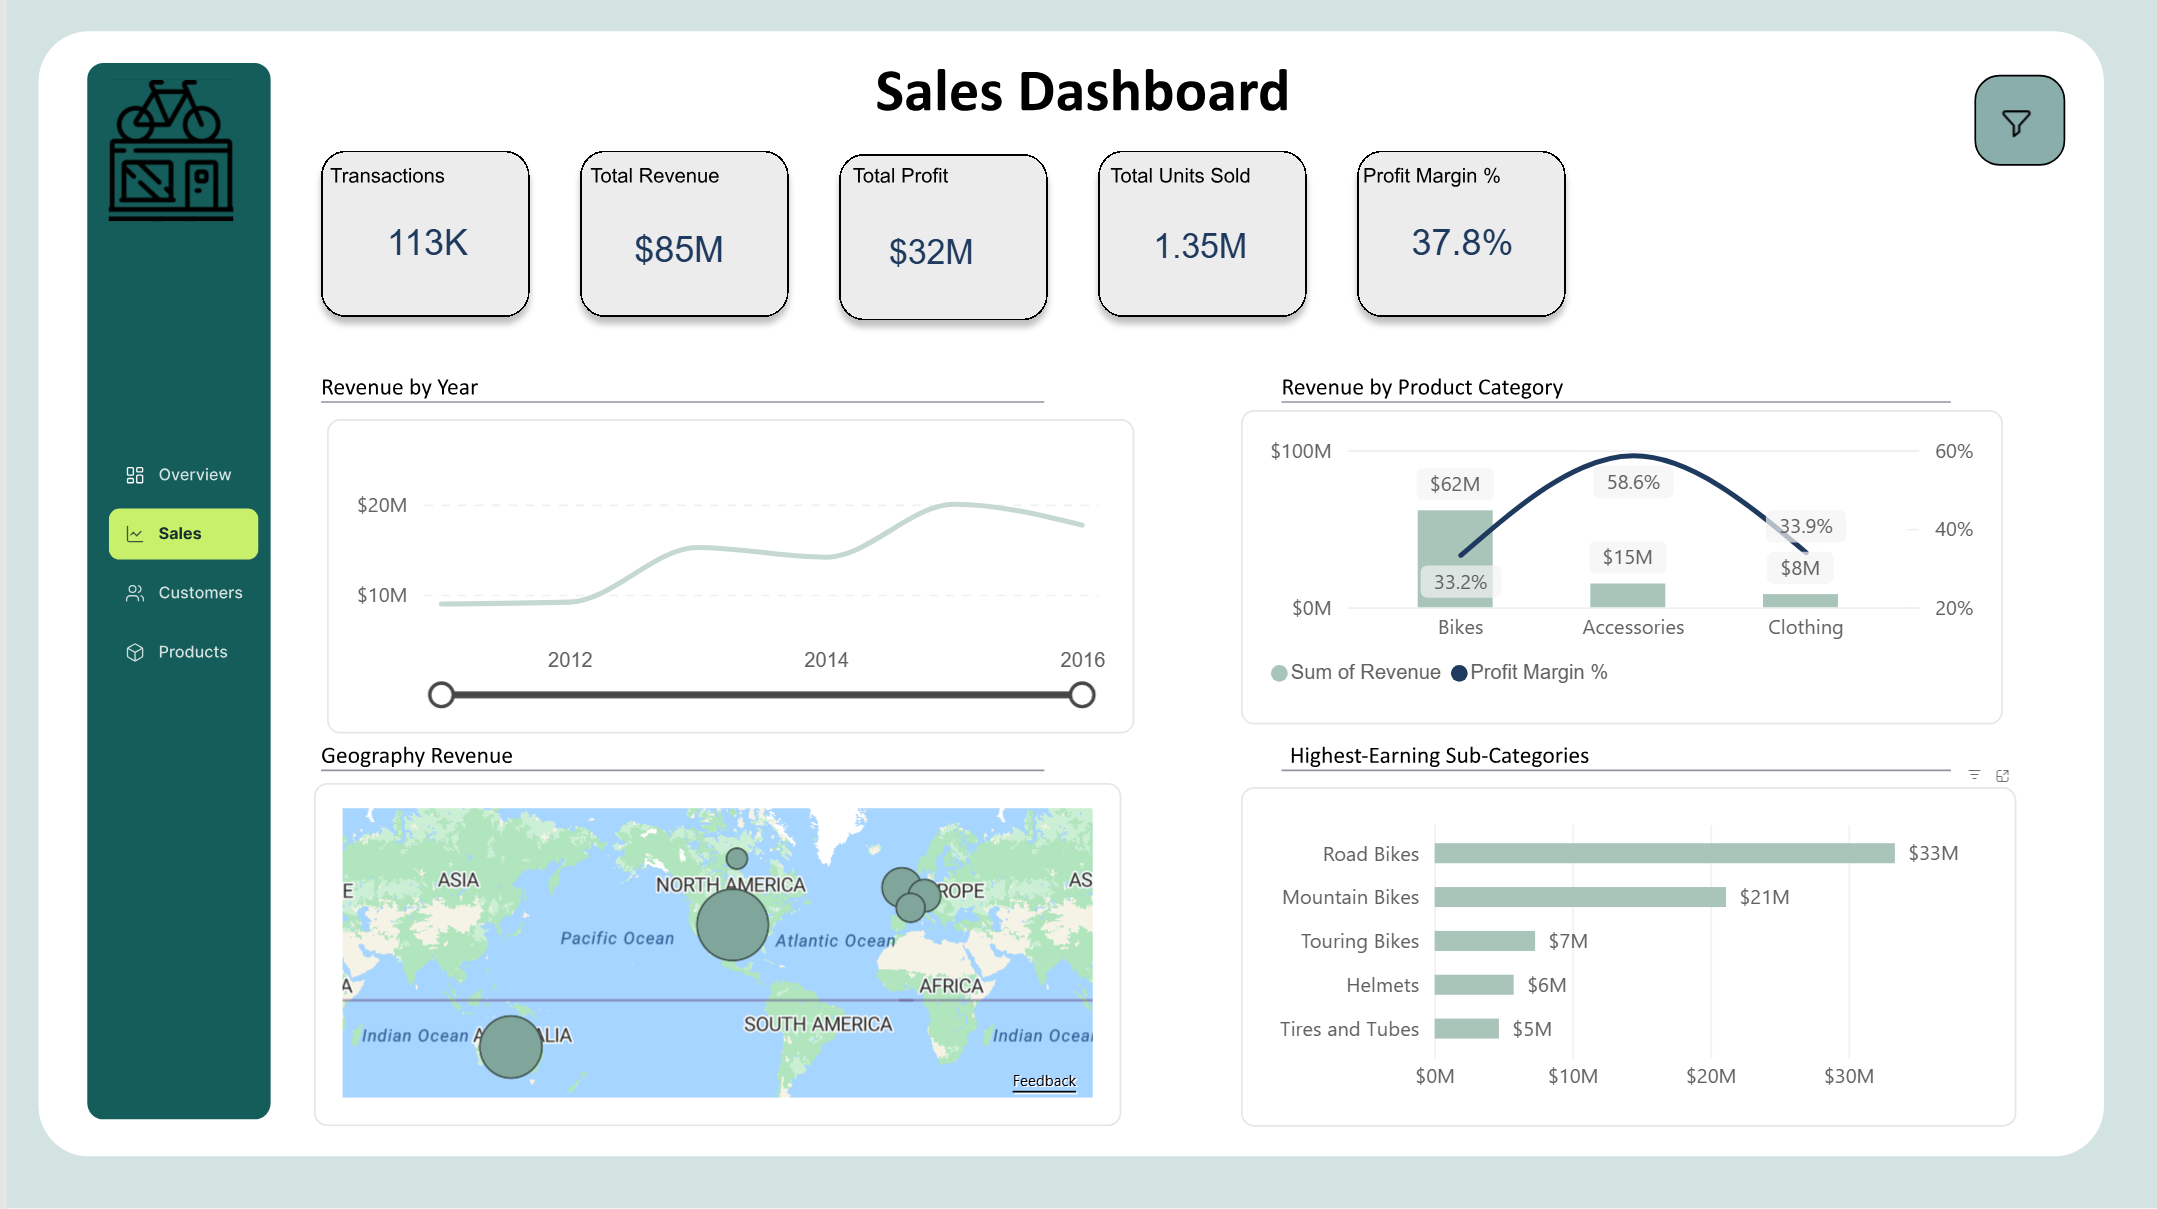

What the dashboard file says about the page in this screenshot:
{"tool":"powerbi","page":{"name":"Sales Overview","canvas":[1280,720],"ordinal":1},"visuals":[{"type":"card","fields":{"Values":["_Measures.Total Sales Revenue"]},"box":[341.8,109.1,115.5,83.6],"z":0},{"type":"card","fields":{"Values":["_Measures.Total Profit"]},"box":[505.5,123.6,88.2,58.2],"z":1000},{"type":"lineChart","fields":{"Category":["Date.Date Hierarchy.Year","Date.Date Hierarchy.Quarter","Date.Date Hierarchy.MonthName","Date.Date Hierarchy.Day"],"Y":["_Measures.Total Sales Revenue"]},"box":[190,250,480,187.3],"z":3000},{"type":"card","fields":{"Values":["_Measures.Total Orders Number"]},"box":[206.4,117.3,87.3,59.1],"z":4000},{"type":"actionButton","title":"Filter button","box":[1162,49,66.4,50.9],"z":5000},{"type":"shape","box":[66.9,343.8,75.6,16.9],"z":7000},{"type":"shape","box":[66.9,376.2,75.6,20.6],"z":8000},{"type":"card","fields":{"Values":["_Measures.Total Quantity Sold"]},"box":[663.3,123.3,91.5,52.3],"z":9000},{"type":"azureMap","fields":{"Category":["Sales.Country"],"Size":["_Measures.Total Sales Revenue"]},"box":[182.7,466.4,480,203.6],"z":10000},{"type":"lineClusteredColumnComboChart","fields":{"Category":["Sales.Product_Category"],"Y":["Sum(Sales.Revenue)"],"Y2":["_Measures.Profit Margin %"]},"box":[733.6,244.1,452.7,187.3],"z":11000},{"type":"shape","box":[66.9,272.5,75.6,20.6],"z":12000},{"type":"clusteredBarChart","fields":{"Category":["Sales.Sub_Category"],"Y":["Sum(Sales.Revenue)"]},"box":[733.6,468.6,460.7,202.1],"z":13000},{"type":"card","title":"Card_avg_customer_age","fields":{"Values":["_Measures.Profit Margin %"]},"box":[813.3,105,104,83],"z":14000},{"type":"group","id":"g1","title":"Filter goup","box":[0,0,1280,720],"z":14500}]}

Visuals, with their boxes in screenshot pixels (x1, y1, x2, y2), scaled from the page's 1280x720 canvas onto the 2157x1209 screenshot:
card - _Measures.Total Sales Revenue: [576, 183, 771, 324]
card - _Measures.Total Profit: [852, 208, 1000, 305]
lineChart - Date.Date Hierarchy.Year x Date.Date Hierarchy.Quarter: [320, 420, 1129, 734]
card - _Measures.Total Orders Number: [348, 197, 495, 296]
"Filter button" actionButton: [1958, 82, 2070, 168]
shape: [113, 577, 240, 606]
shape: [113, 632, 240, 666]
card - _Measures.Total Quantity Sold: [1118, 207, 1272, 295]
azureMap - Sales.Country x _Measures.Total Sales Revenue: [308, 783, 1117, 1125]
lineClusteredColumnComboChart - Sales.Product_Category x Sum(Sales.Revenue): [1236, 410, 1999, 724]
shape: [113, 458, 240, 492]
clusteredBarChart - Sales.Sub_Category x Sum(Sales.Revenue): [1236, 787, 2013, 1126]
"Card_avg_customer_age" card: [1371, 176, 1546, 316]
"Filter goup" group: [0, 0, 2156, 1208]
